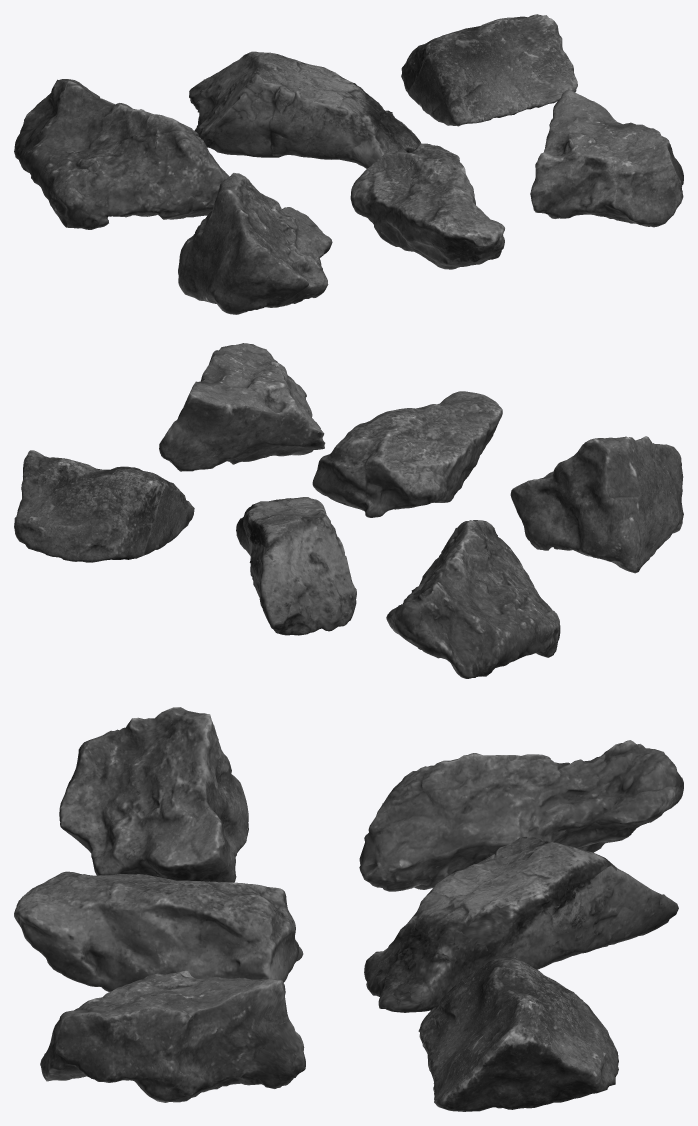
File: rocks.glb
3 renders of one model, top to bottom at view 1: azimuth 30°, elevation 25°; view 2: azimuth 150°, elevation 25°; view 3: azimuth 270°, elevation 25°, orthographic. The views are drawn at different scales.
Visible parts, largest first — view 1: rock_moss_set_01_rock01, rock_moss_set_01_rock02, rock_moss_set_01_rock06, rock_moss_set_01_rock04, rock_moss_set_01_rock03, rock_moss_set_01_rock05; view 2: rock_moss_set_01_rock04, rock_moss_set_01_rock01, rock_moss_set_01_rock05, rock_moss_set_01_rock03, rock_moss_set_01_rock06, rock_moss_set_01_rock02; view 3: rock_moss_set_01_rock01, rock_moss_set_01_rock02, rock_moss_set_01_rock05, rock_moss_set_01_rock06, rock_moss_set_01_rock04, rock_moss_set_01_rock03.
Part boxes in pixels (bbox=[...]): rock_moss_set_01_rock01: bbox=[14, 79, 229, 229]; rock_moss_set_01_rock02: bbox=[189, 51, 421, 168]; rock_moss_set_01_rock06: bbox=[530, 89, 683, 227]; rock_moss_set_01_rock04: bbox=[178, 173, 332, 314]; rock_moss_set_01_rock03: bbox=[401, 14, 577, 126]; rock_moss_set_01_rock05: bbox=[350, 143, 504, 269]; rock_moss_set_01_rock04: bbox=[510, 436, 683, 573]; rock_moss_set_01_rock01: bbox=[386, 520, 560, 678]; rock_moss_set_01_rock05: bbox=[312, 391, 502, 517]; rock_moss_set_01_rock03: bbox=[14, 450, 194, 562]; rock_moss_set_01_rock06: bbox=[159, 343, 325, 471]; rock_moss_set_01_rock02: bbox=[236, 497, 356, 635]; rock_moss_set_01_rock01: bbox=[359, 740, 683, 891]; rock_moss_set_01_rock02: bbox=[364, 836, 678, 1012]; rock_moss_set_01_rock05: bbox=[14, 871, 303, 991]; rock_moss_set_01_rock06: bbox=[40, 970, 305, 1102]; rock_moss_set_01_rock04: bbox=[59, 707, 248, 882]; rock_moss_set_01_rock03: bbox=[418, 956, 618, 1111].
Bounding box in the file's own units: 8 × 1.77 × 6.94.
1 material, 1 textured.
